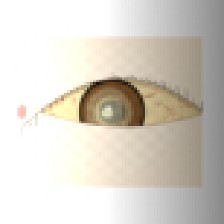corneal_ulcer: (84, 92, 134, 132)
